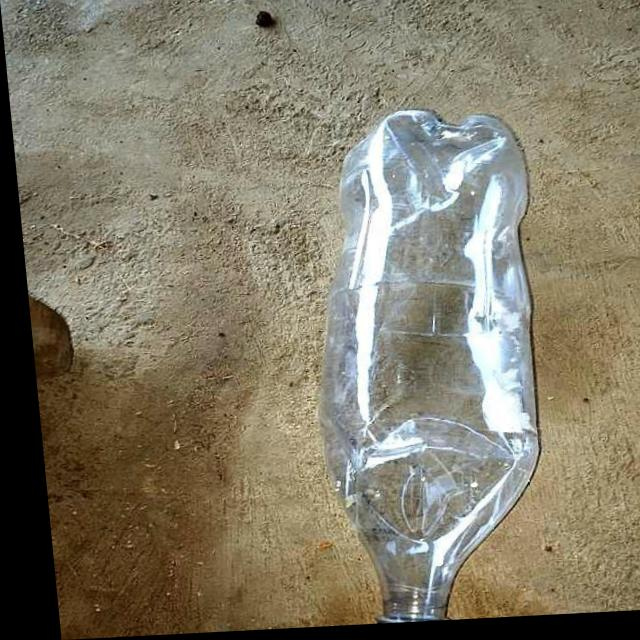Non-biodegradable: (293, 97, 557, 629)
